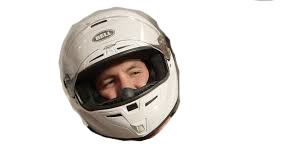com_capacete: (59, 7, 178, 138)
